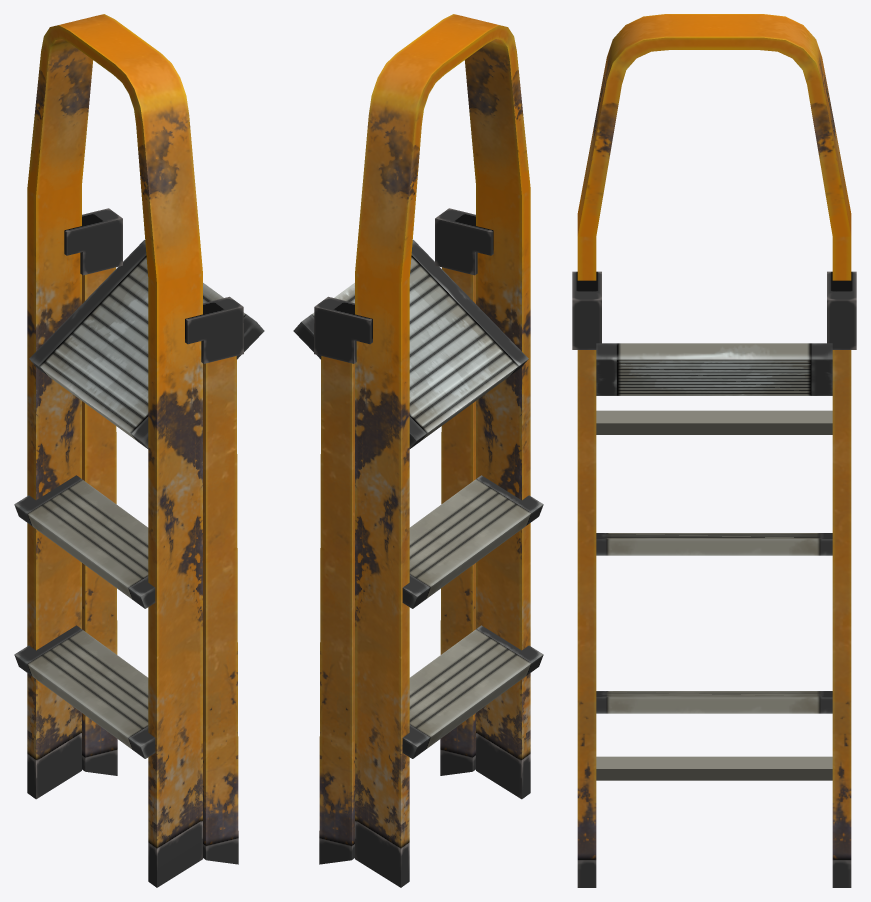
File: ladder06_B.fbx
The picture shows the model from 3 angles, left to right: view 1: azimuth 30°, elevation 25°; view 2: azimuth 150°, elevation 25°; view 3: azimuth 270°, elevation 25°; orthographic projection. The views are drawn at different scales.
Visible parts, largest first — view 1: ladder06_B; view 2: ladder06_B; view 3: ladder06_B.
Boxes of the visible parts, x1,y1,x2,y2 form: ladder06_B: (14,14,264,887); ladder06_B: (293,14,543,887); ladder06_B: (572,14,856,887).
Size of the model in its own units: 29.07 by 168 by 51.75.
